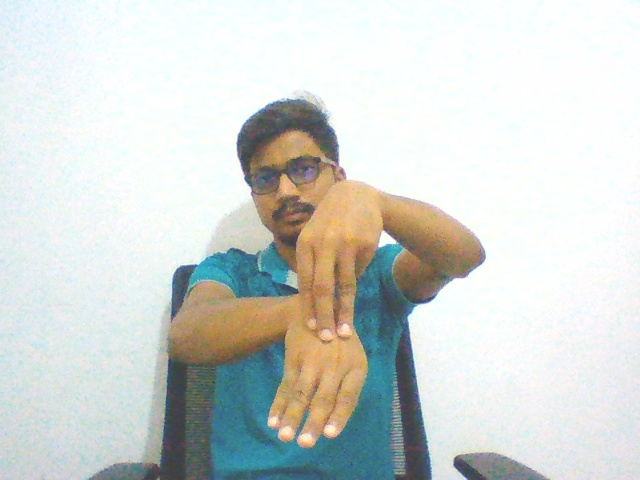papaya: (260, 176, 385, 454)
